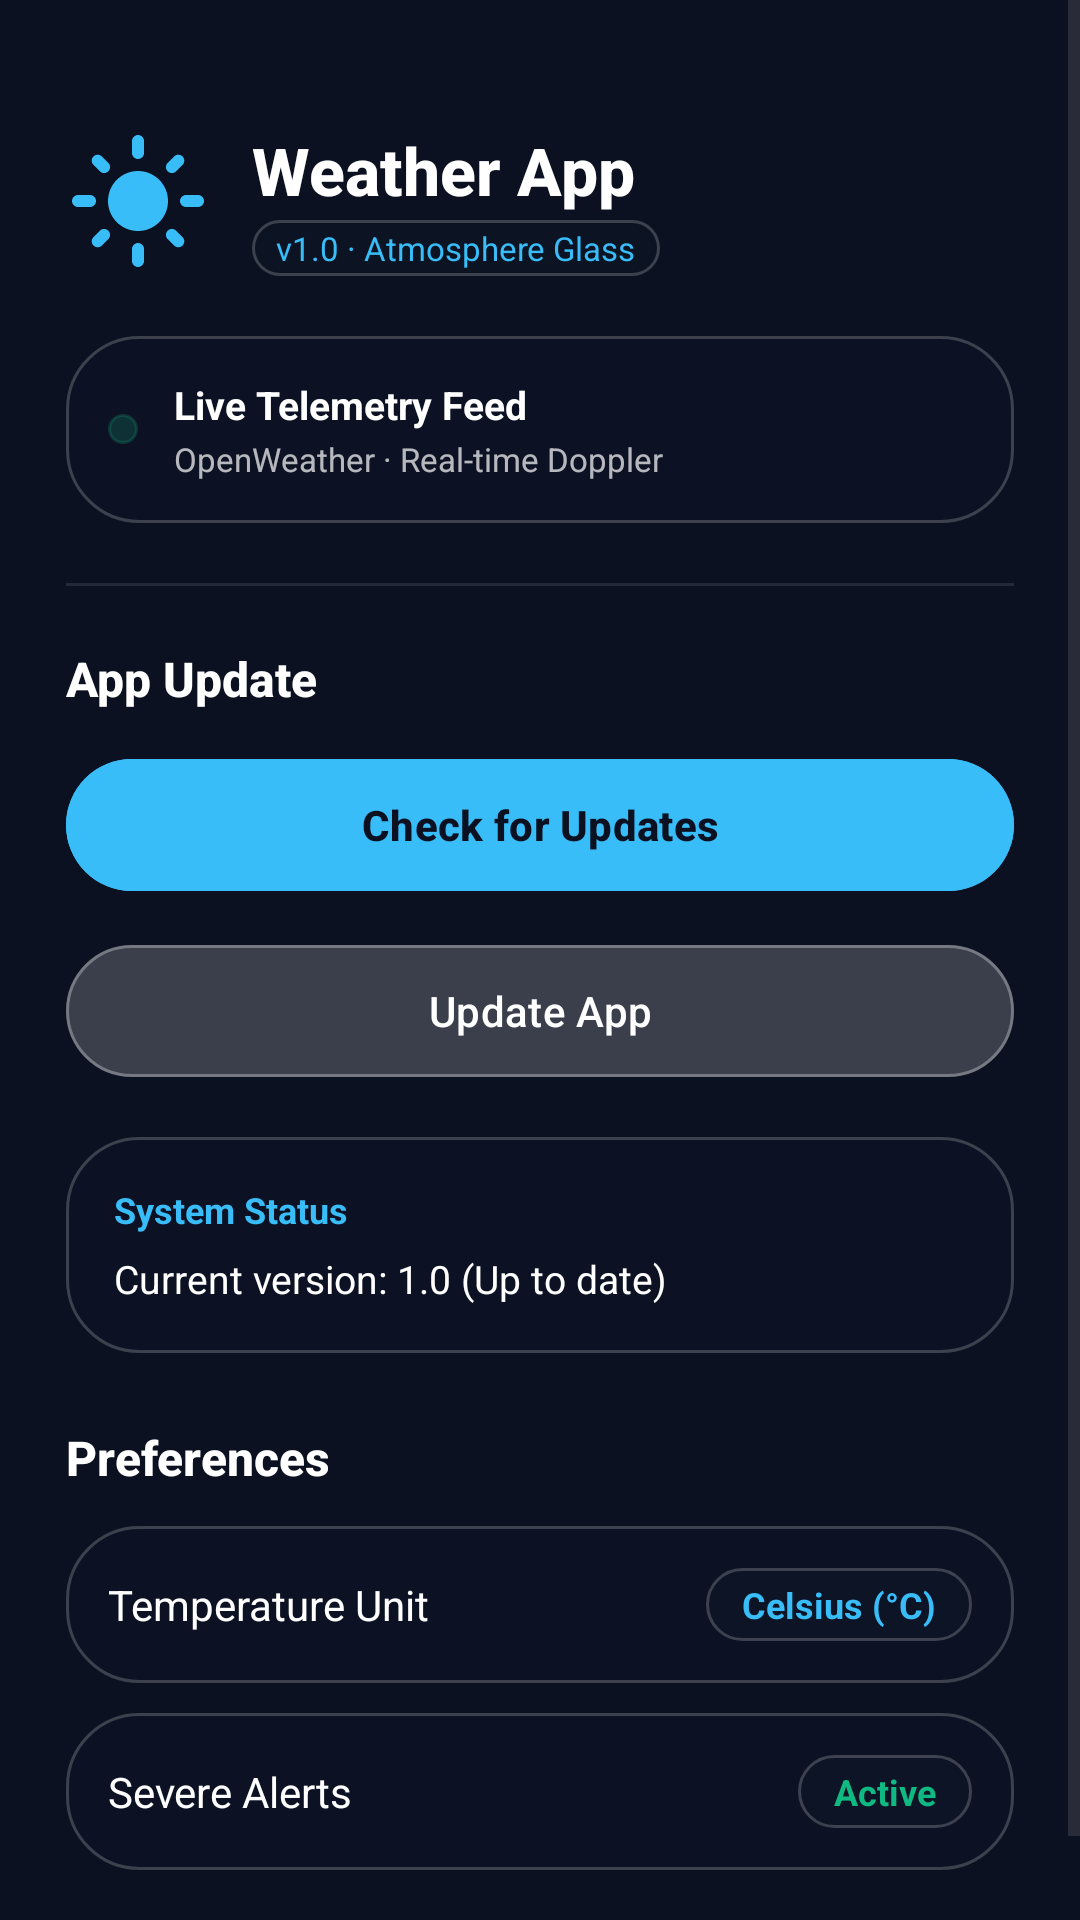

Icon click points for this 1080x1920 phone screenshot, format (x=x, y=y):
sun: (x=138, y=201)
